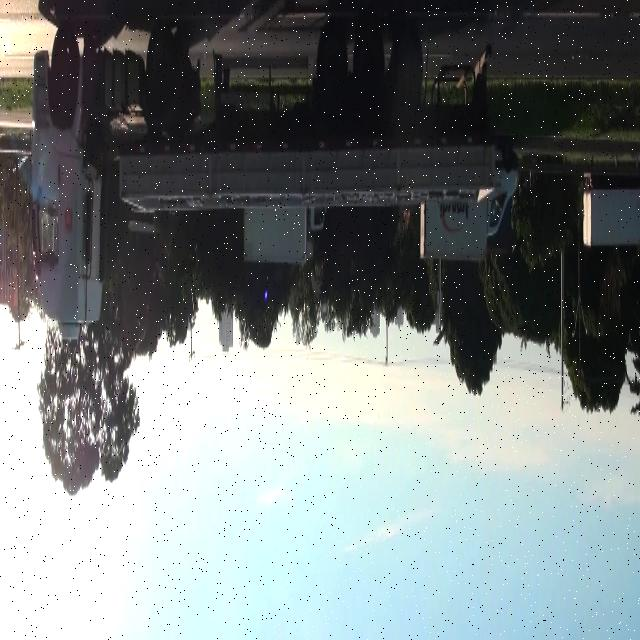-axle: (144, 27, 178, 119), (388, 24, 424, 110), (50, 21, 80, 124), (353, 20, 383, 114), (314, 30, 349, 109)
